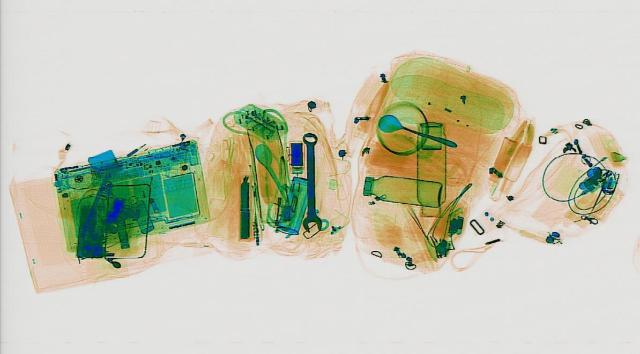Wrench: (300, 132, 320, 232)
